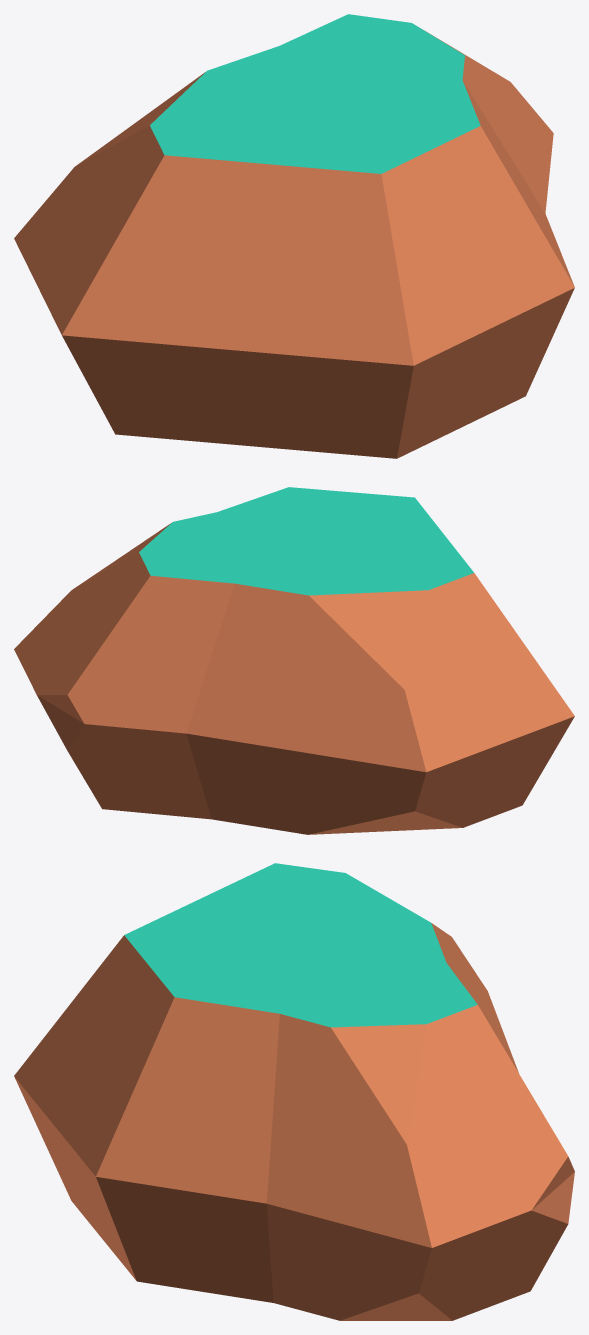
Rendered from rock_largeF.obj.
3 views of the same model, one above another, from view 1: azimuth 30°, elevation 25°; view 2: azimuth 150°, elevation 25°; view 3: azimuth 270°, elevation 25° (orthographic). The views are drawn at different scales.
Visible parts, largest first — view 1: rock_largeF; view 2: rock_largeF; view 3: rock_largeF.
Boxes of the visible parts, x1,y1,x2,y2 form: rock_largeF: [14, 14, 574, 458]; rock_largeF: [14, 487, 574, 834]; rock_largeF: [14, 863, 574, 1320].
Bounding box in the file's own units: 1.1 × 0.479 × 0.899.
